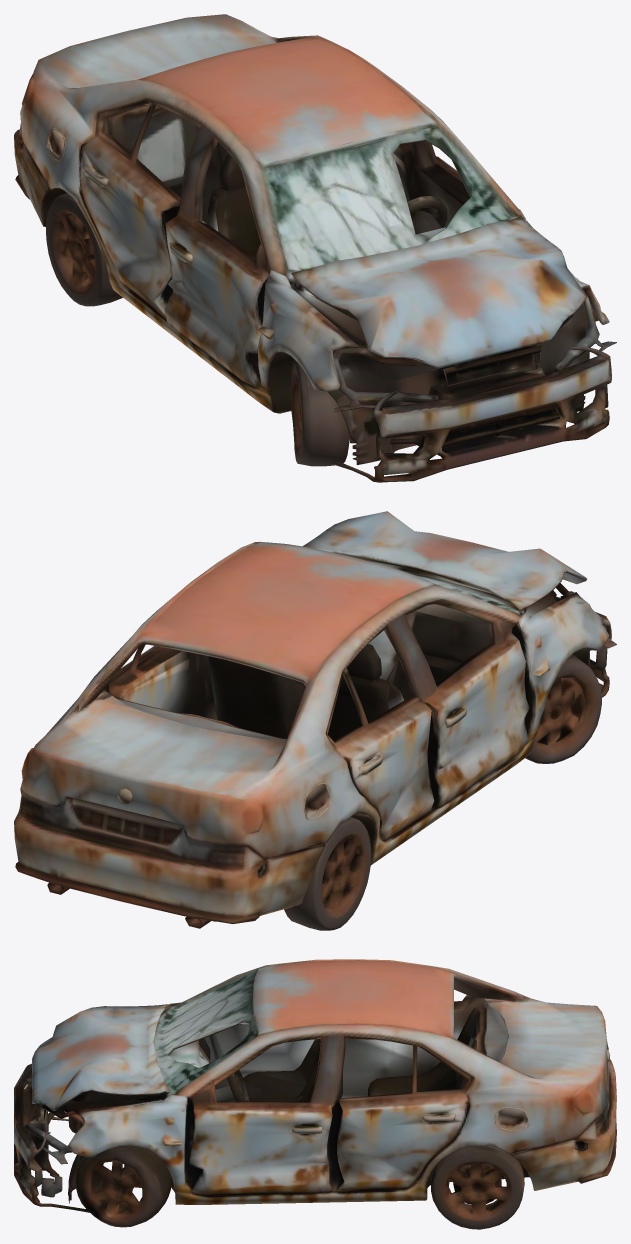
File: rusty_crashed_car_15ba74d2_v4.glb
3 views of the same model, one above another, from view 1: azimuth 30°, elevation 25°; view 2: azimuth 150°, elevation 25°; view 3: azimuth 270°, elevation 25° (orthographic). The views are drawn at different scales.
Visible parts, largest first — view 1: material; view 2: material; view 3: material.
Part boxes in pixels (bbox=[...]): material: bbox=[14, 14, 616, 482]; material: bbox=[14, 511, 616, 930]; material: bbox=[14, 959, 616, 1229].
Size of the model in its own units: 0.8475 by 0.6659 by 1.9.
1 material, 1 textured.
